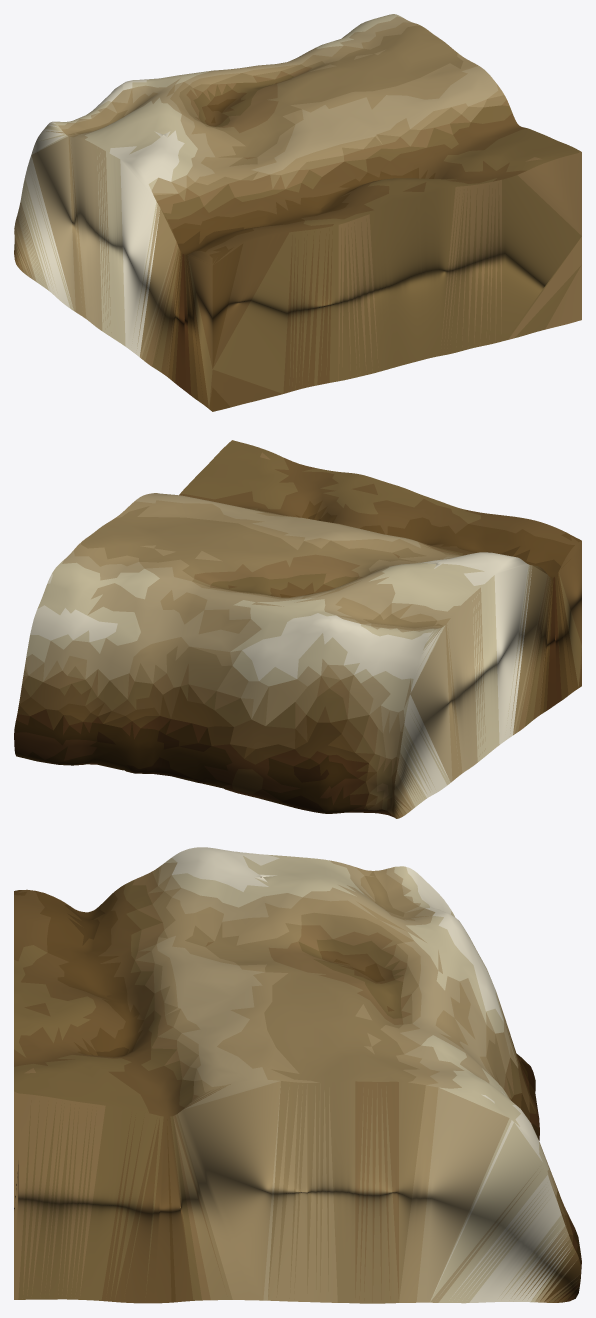
Rendered from rock_arch_170.glb.
3 views of the same model, one above another, from view 1: azimuth 30°, elevation 25°; view 2: azimuth 150°, elevation 25°; view 3: azimuth 270°, elevation 25° (orthographic). The views are drawn at different scales.
Visible parts, largest first — view 1: rock_arch_170; view 2: rock_arch_170; view 3: rock_arch_170.
Part boxes in pixels (left/top/right/bottom): rock_arch_170: left=14, top=14, right=581, bottom=411; rock_arch_170: left=14, top=440, right=581, bottom=818; rock_arch_170: left=14, top=847, right=581, bottom=1303.
Size of the model in its own units: 24 by 12.3 by 25.96.
